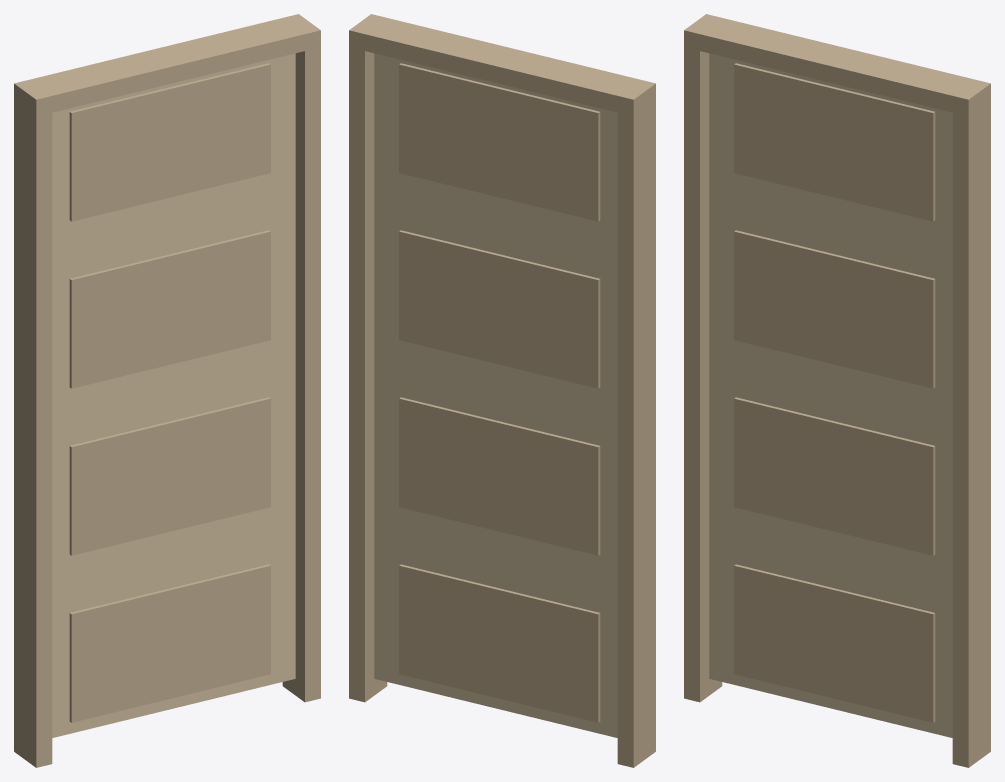
3 renders of one model, left to right at view 1: azimuth 30°, elevation 25°; view 2: azimuth 150°, elevation 25°; view 3: azimuth 330°, elevation 25°, orthographic.
Visible parts, largest first — view 1: leaf-panel (×4), leaf, frame (×3); view 2: leaf-panel (×4), leaf, frame (×3); view 3: leaf-panel (×4), leaf, frame (×3).
Boxes of the visible parts, bbox=[...] form: leaf-panel (×4): bbox=[69, 63, 270, 722]; leaf: bbox=[52, 53, 295, 737]; frame (×3): bbox=[14, 14, 320, 767]; leaf-panel (×4): bbox=[399, 63, 600, 722]; leaf: bbox=[374, 53, 617, 737]; frame (×3): bbox=[349, 14, 655, 767]; leaf-panel (×4): bbox=[734, 63, 935, 722]; leaf: bbox=[709, 53, 952, 737]; frame (×3): bbox=[684, 14, 990, 767].
Bounding box in the file's own units: 0.885 × 1.99 × 0.12.
